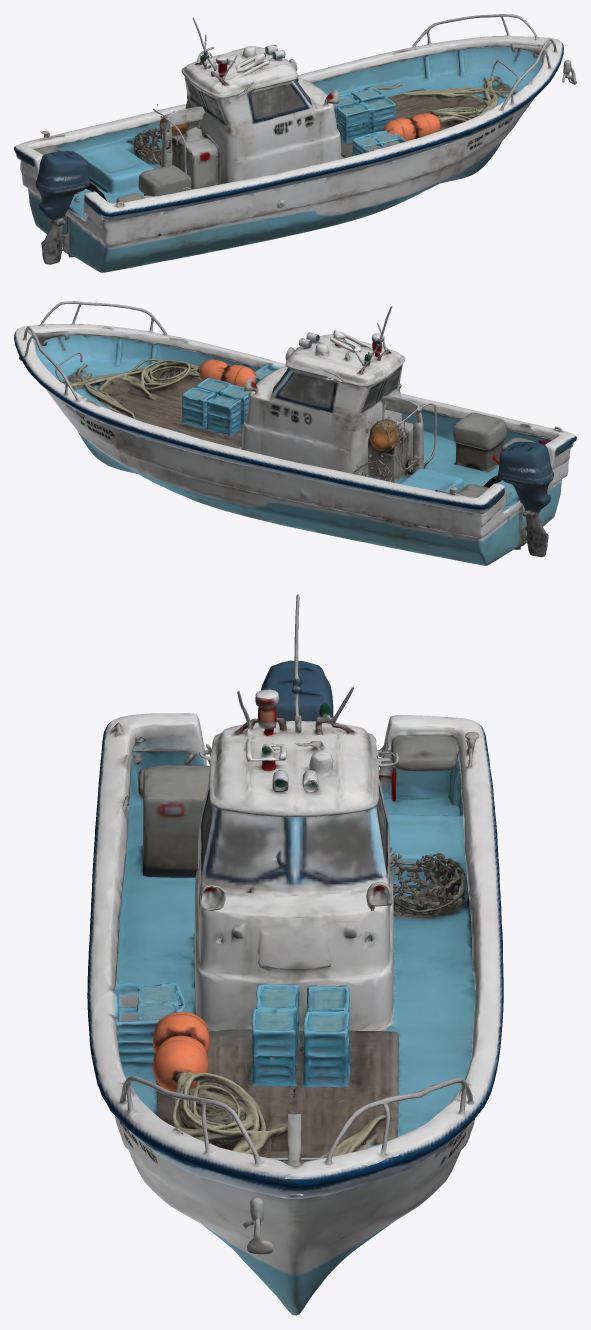
Rendered from fishing_boat.0.glb.
The picture shows the model from 3 angles, top to bottom: view 1: azimuth 30°, elevation 25°; view 2: azimuth 150°, elevation 25°; view 3: azimuth 270°, elevation 25°; orthographic projection. The views are drawn at different scales.
Parts seen in each view (by area): view 1: geometry_0; view 2: geometry_0; view 3: geometry_0.
Part boxes in pixels (left/top/right/bottom): geometry_0: left=14, top=14, right=576, bottom=272; geometry_0: left=14, top=301, right=576, bottom=565; geometry_0: left=87, top=594, right=503, bottom=1315.
Bounding box in the file's own units: 0.9986 × 0.4107 × 0.3415.
1 material, 1 textured.
